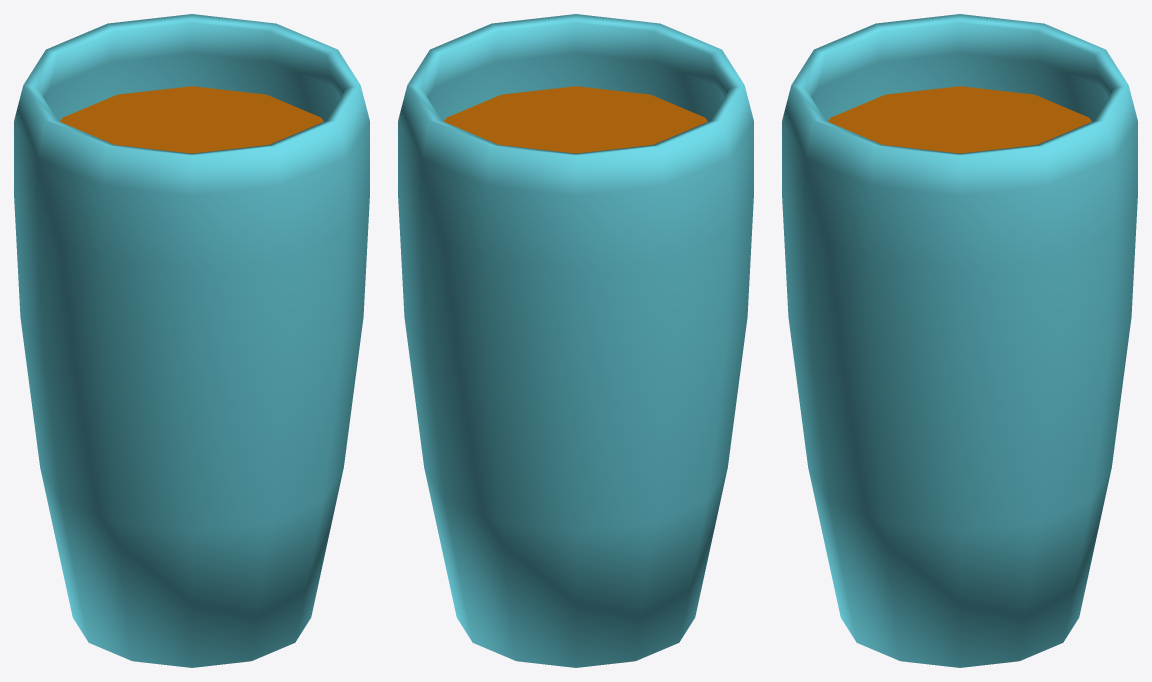
File: Orange_Juice.fbx
3 renders of one model, left to right at view 1: azimuth 30°, elevation 25°; view 2: azimuth 150°, elevation 25°; view 3: azimuth 270°, elevation 25°, orthographic.
Visible parts, largest first — view 1: Glass, Liquid; view 2: Glass, Liquid; view 3: Glass, Liquid.
Boxes of the visible parts, x1=… form: Glass: x1=14, y1=14, x2=369, y2=667; Liquid: x1=60, y1=86, x2=323, y2=153; Glass: x1=398, y1=14, x2=753, y2=667; Liquid: x1=444, y1=86, x2=707, y2=153; Glass: x1=782, y1=14, x2=1137, y2=667; Liquid: x1=828, y1=86, x2=1091, y2=153.
Bounding box in the file's own units: 24.69 × 40.74 × 24.69.
